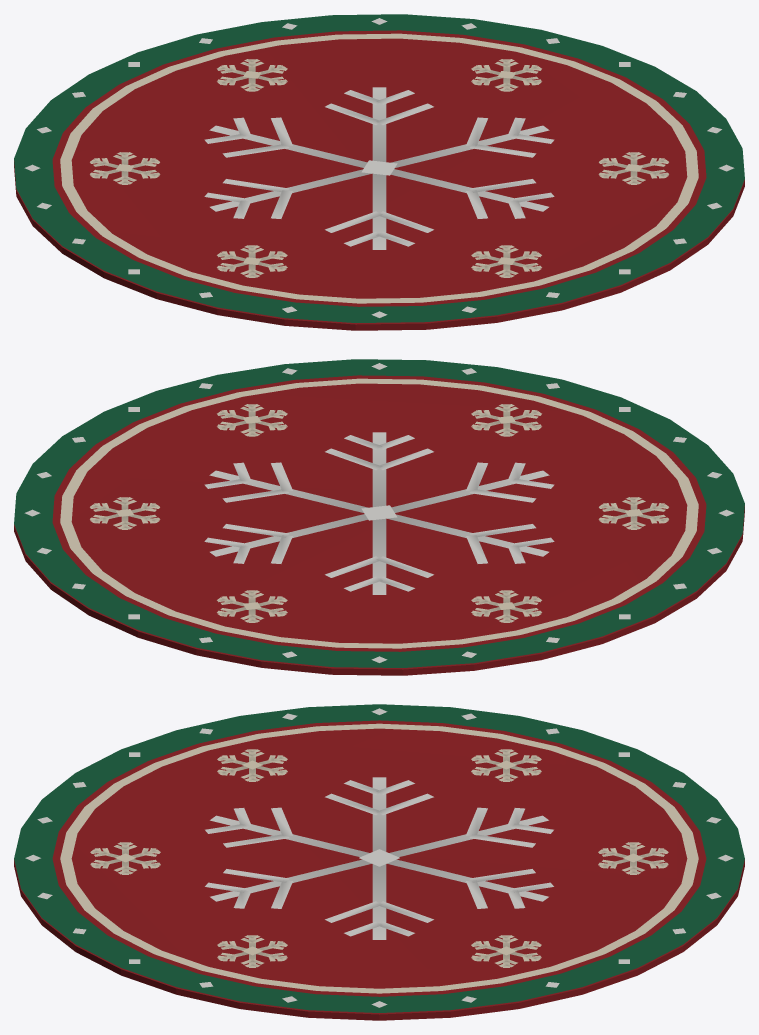
Rendered from xmas_rug_snowflake_low.glb.
The picture shows the model from 3 angles, top to bottom: view 1: azimuth 30°, elevation 25°; view 2: azimuth 150°, elevation 25°; view 3: azimuth 270°, elevation 25°; orthographic projection.
Size of the model in its own units: 1.9 by 0.024 by 1.9.
